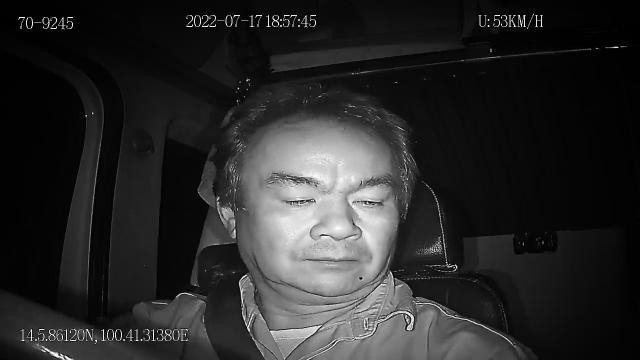SafeDriving: (342, 184, 394, 215), (270, 185, 324, 212)
Seatbelt: (202, 270, 268, 360)
